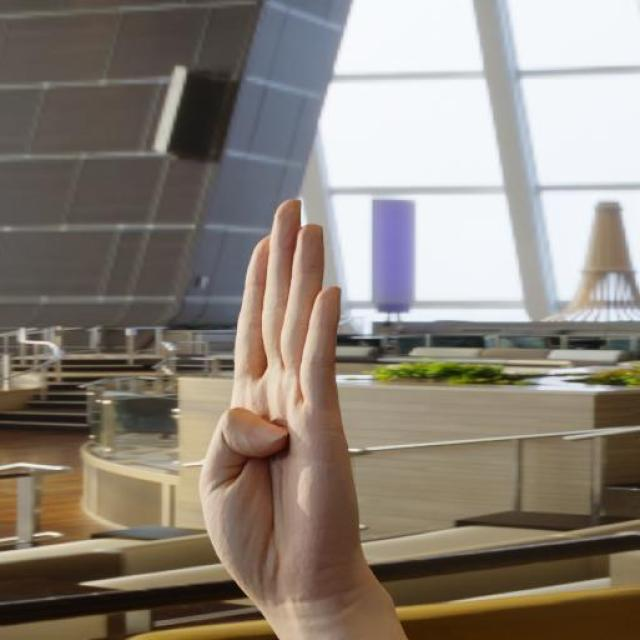B: (196, 192, 374, 618)
